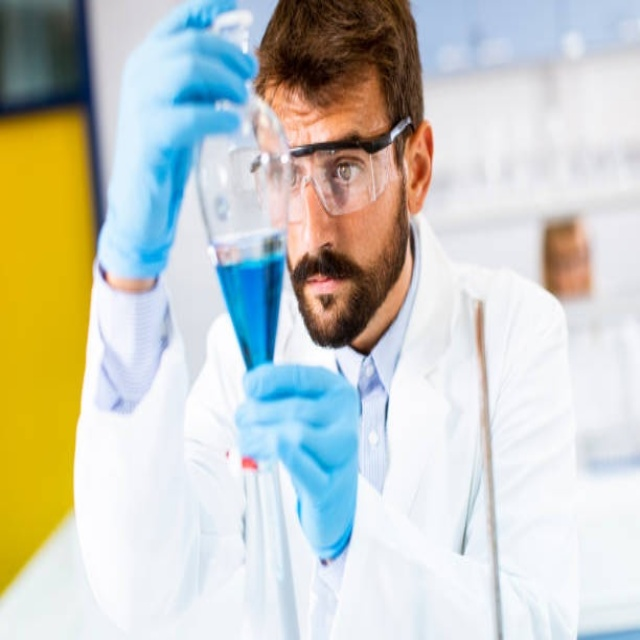Gafas: (246, 117, 412, 223)
Guantes: (96, 5, 260, 281), (237, 361, 361, 547)
Sin_mascara: (291, 246, 365, 328)
